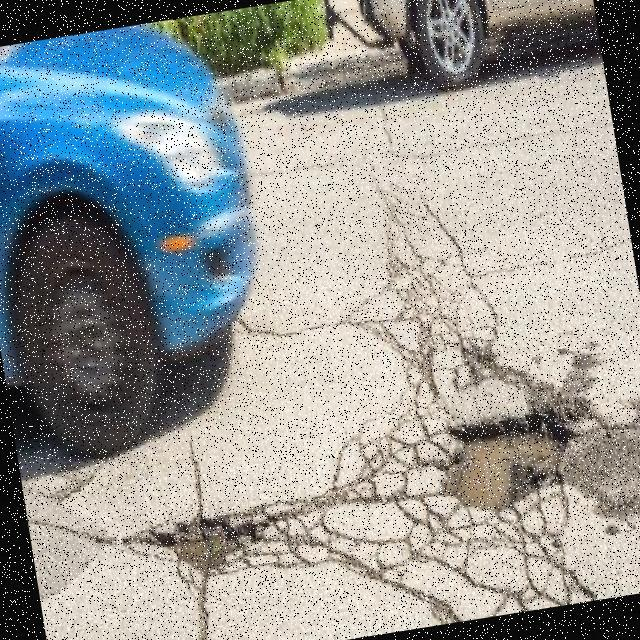Pothole: (445, 419, 573, 511), (132, 519, 266, 575)
